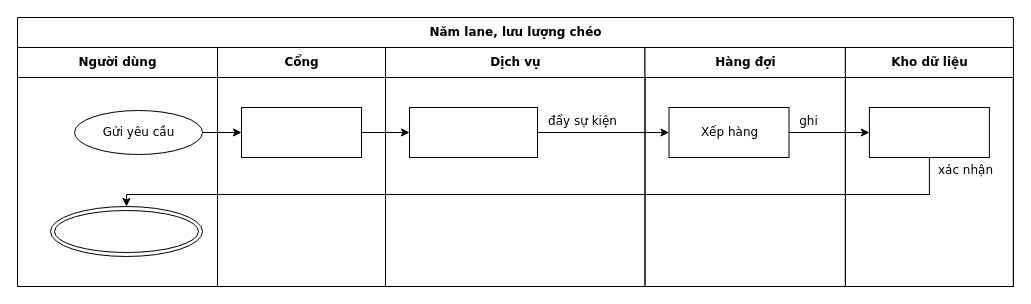
Image size: 1031x304. Some labels were removed from this diagram. Each missing label, with the centre of its shape:
Lưu bản ghi: pixel 928 132
Nhận kết quả: pixel 126 231
Xác thực: pixel 301 132
Xử lý nghiệp vụ: pixel 473 132
